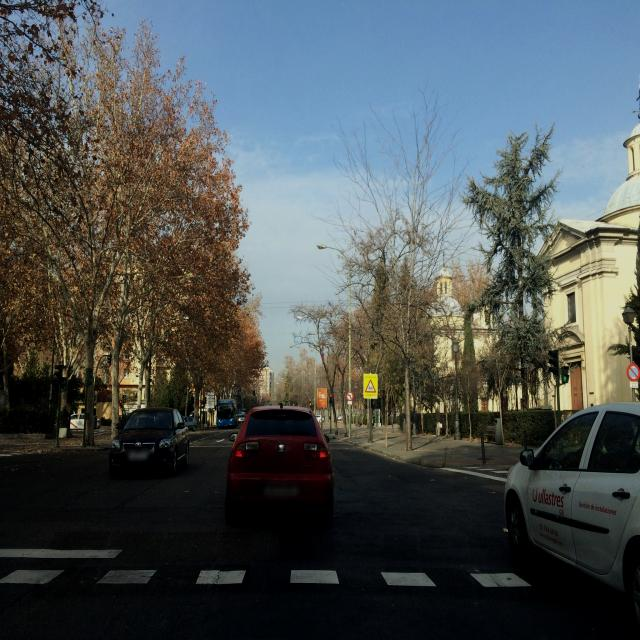car: (503, 401, 640, 639), (225, 405, 334, 525), (108, 407, 190, 478), (69, 412, 99, 431), (184, 416, 196, 430)
